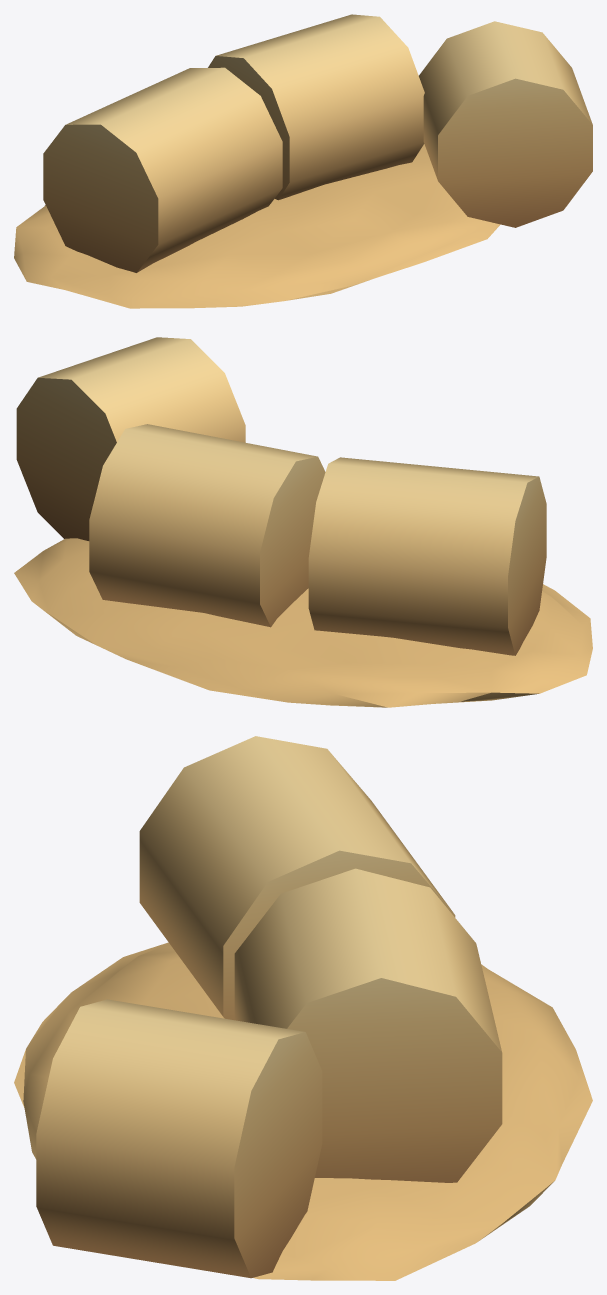
File: BrokenColumn.fbx
3 views of the same model, one above another, from view 1: azimuth 30°, elevation 25°; view 2: azimuth 150°, elevation 25°; view 3: azimuth 270°, elevation 25° (orthographic). The views are drawn at different scales.
Parts seen in each view (by area): view 1: BrokenColumn; view 2: BrokenColumn; view 3: BrokenColumn.
Boxes of the visible parts, box(x1,y1,x2,y2) form: BrokenColumn: box(14, 14, 592, 308); BrokenColumn: box(14, 337, 592, 707); BrokenColumn: box(14, 736, 592, 1280).
Size of the model in its own units: 2 by 0.54 by 1.22.
1 material, 1 textured.
